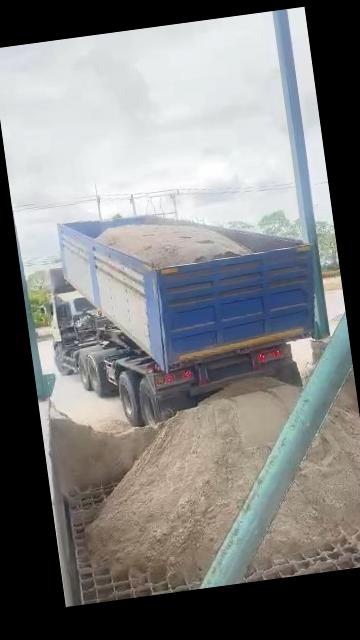sand: (89, 380, 297, 580), (255, 407, 360, 565), (51, 410, 159, 494), (98, 224, 251, 268), (337, 370, 359, 412), (94, 418, 132, 433)
